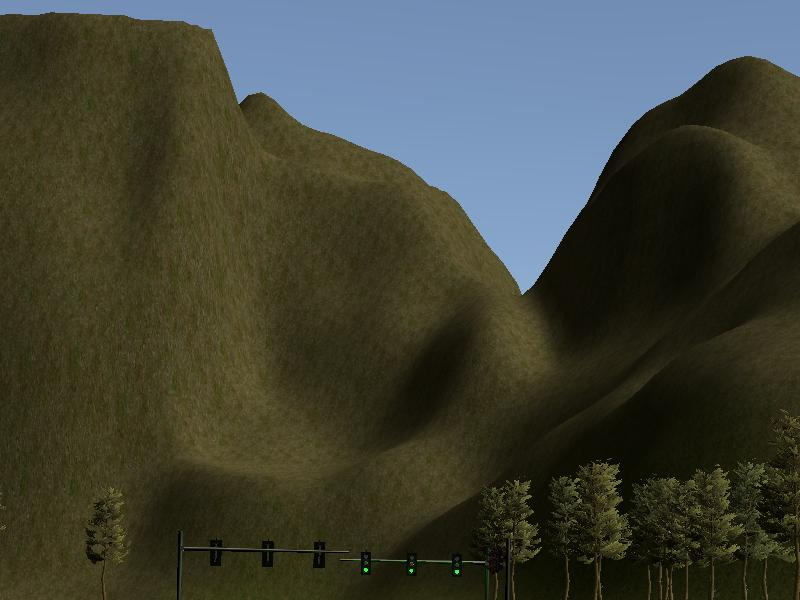Green: (453, 556, 462, 578), (360, 554, 369, 575), (407, 555, 416, 575)
